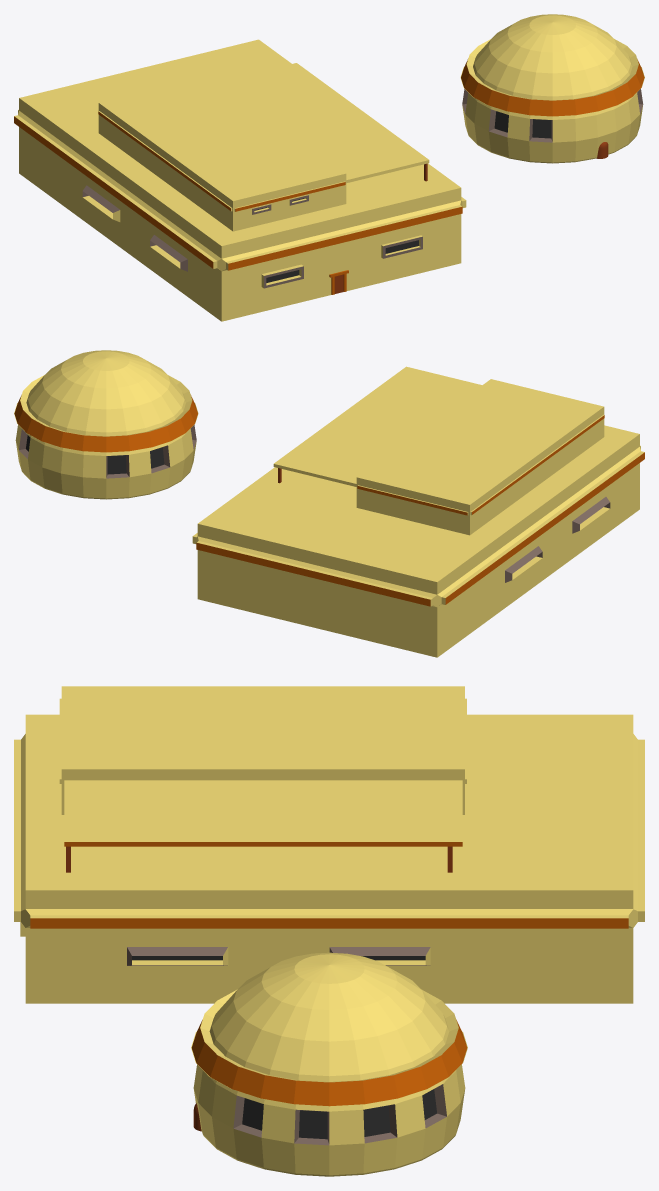
Rendered from Houses.fbx.
3 views of the same model, one above another, from view 1: azimuth 30°, elevation 25°; view 2: azimuth 150°, elevation 25°; view 3: azimuth 270°, elevation 25° (orthographic). The views are drawn at different scales.
Visible parts, largest first — view 1: Cube, Cube_1, Sphere; view 2: Cube, Cube_1, Sphere; view 3: Cube, Cube_1, Sphere.
Boxes of the visible parts, x1,y1,x2,y2 form: Cube: (14, 39, 466, 321); Cube_1: (98, 63, 429, 231); Sphere: (460, 14, 644, 163); Cube: (192, 425, 644, 657); Cube_1: (273, 366, 604, 535); Sphere: (14, 350, 198, 499); Cube: (14, 714, 644, 1003); Cube_1: (59, 686, 466, 846); Sphere: (191, 952, 467, 1176).
Size of the model in its own units: 662 by 146 by 465.
